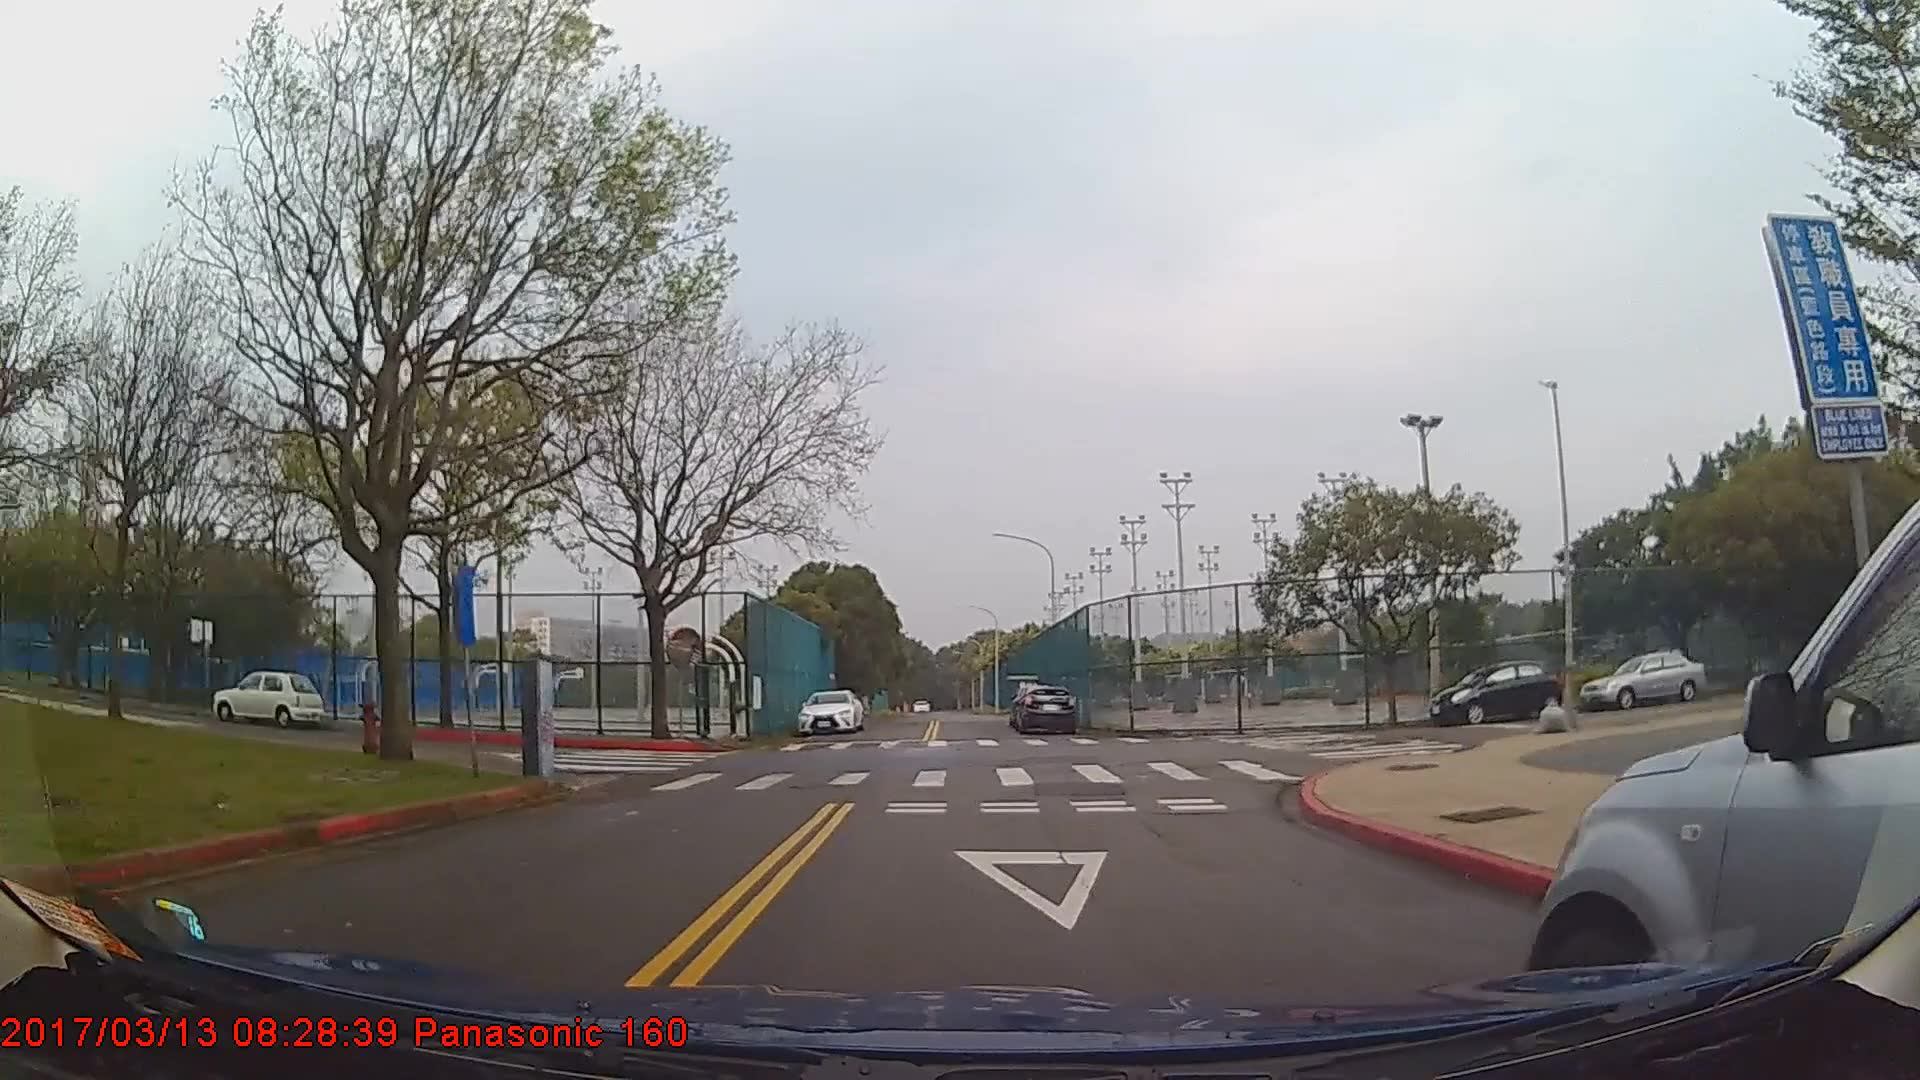vehicle: (1528, 506, 1920, 1052), (1427, 662, 1560, 725), (1578, 647, 1706, 709), (211, 667, 324, 727), (1013, 683, 1077, 735), (795, 687, 862, 736)
